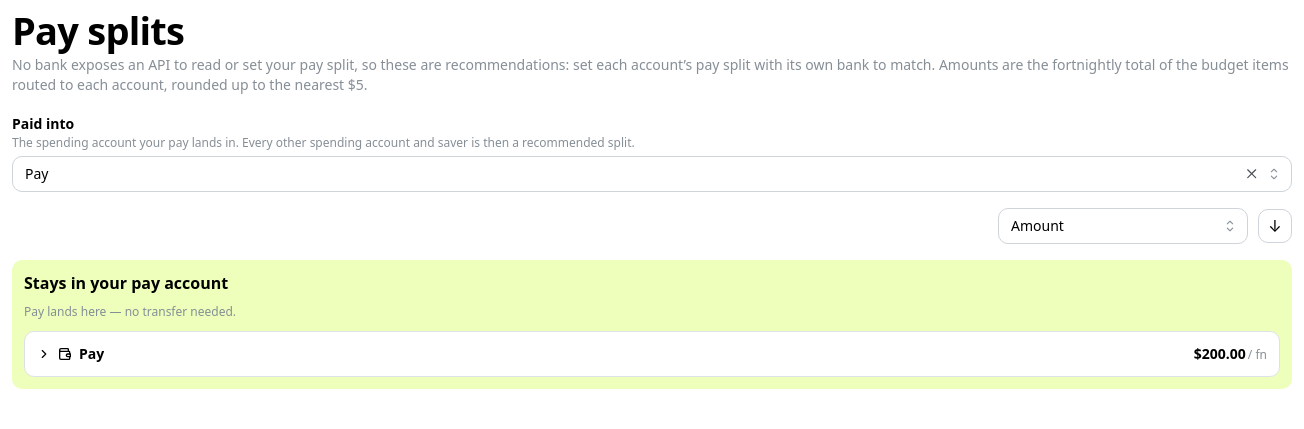
SplitsScreen › expands a staying-put account row to its lines
Click the button "Pay" at x=44, y=354, box [37,344,1182,364]
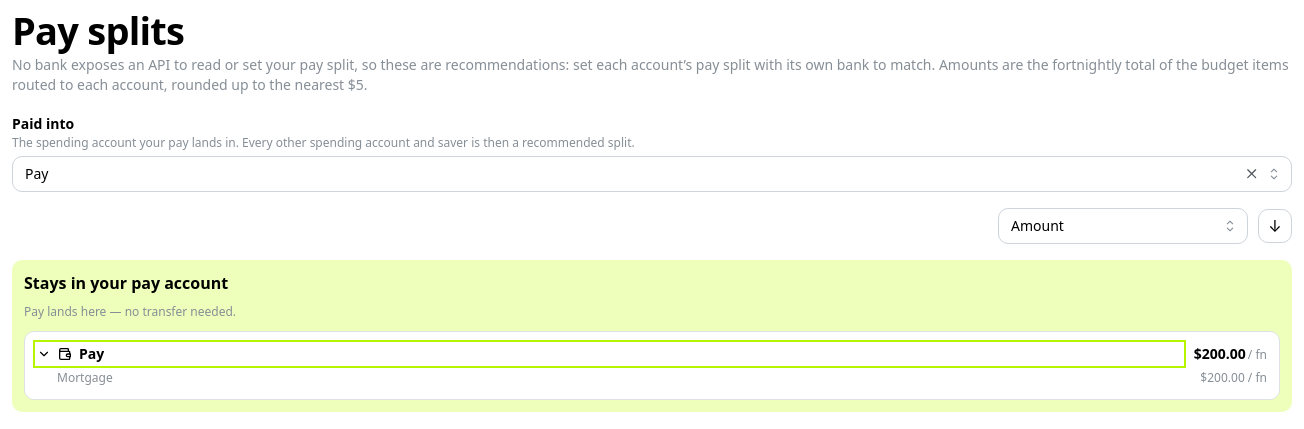
Result: the button "Pay" is expanded at [37,344,1182,364]
Result: the text "Mortgage" is shown at [57,370,113,387]
